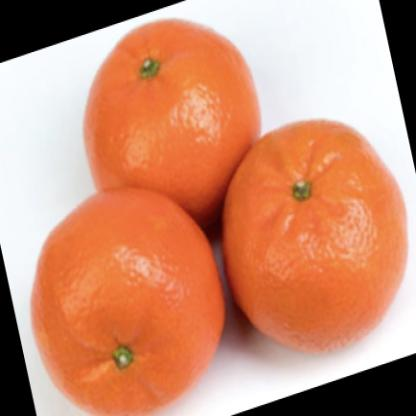orange: (33, 178, 232, 410), (221, 114, 410, 356), (85, 15, 255, 212)
